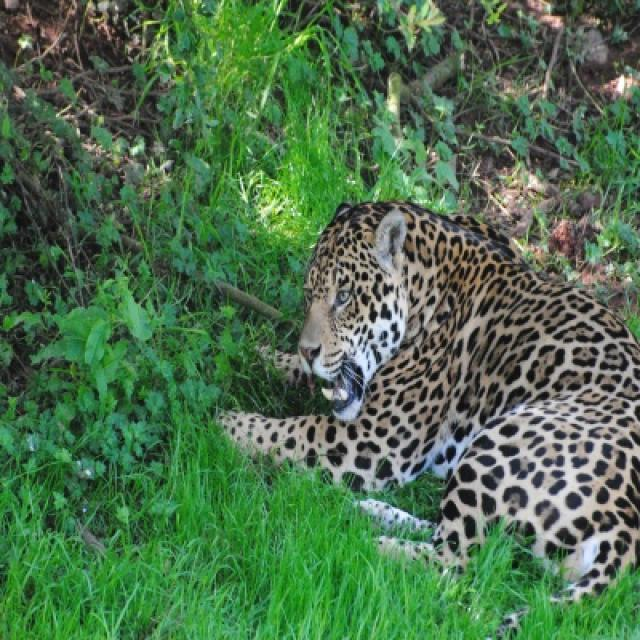Jaguar: (213, 202, 638, 600)
